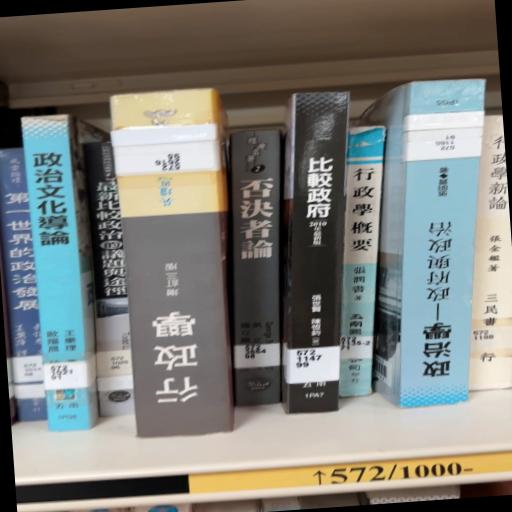reverse: (110, 88, 234, 437), (357, 79, 485, 407)
